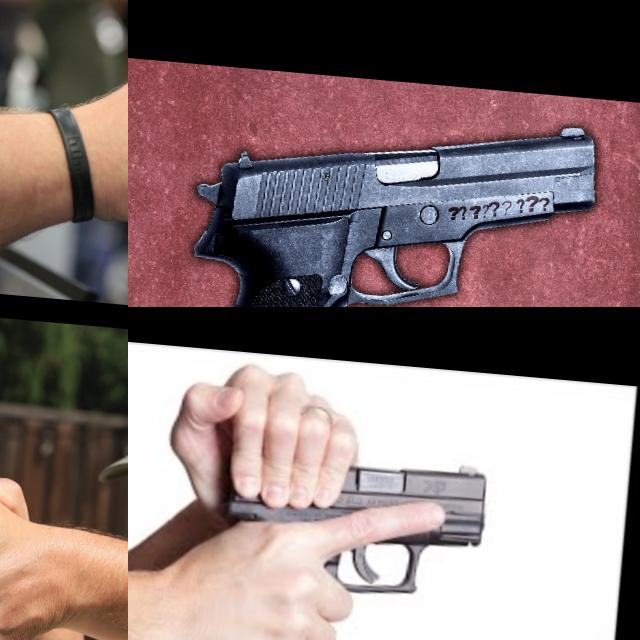handgun: (170, 92, 604, 307), (211, 438, 496, 606), (0, 448, 79, 576)
